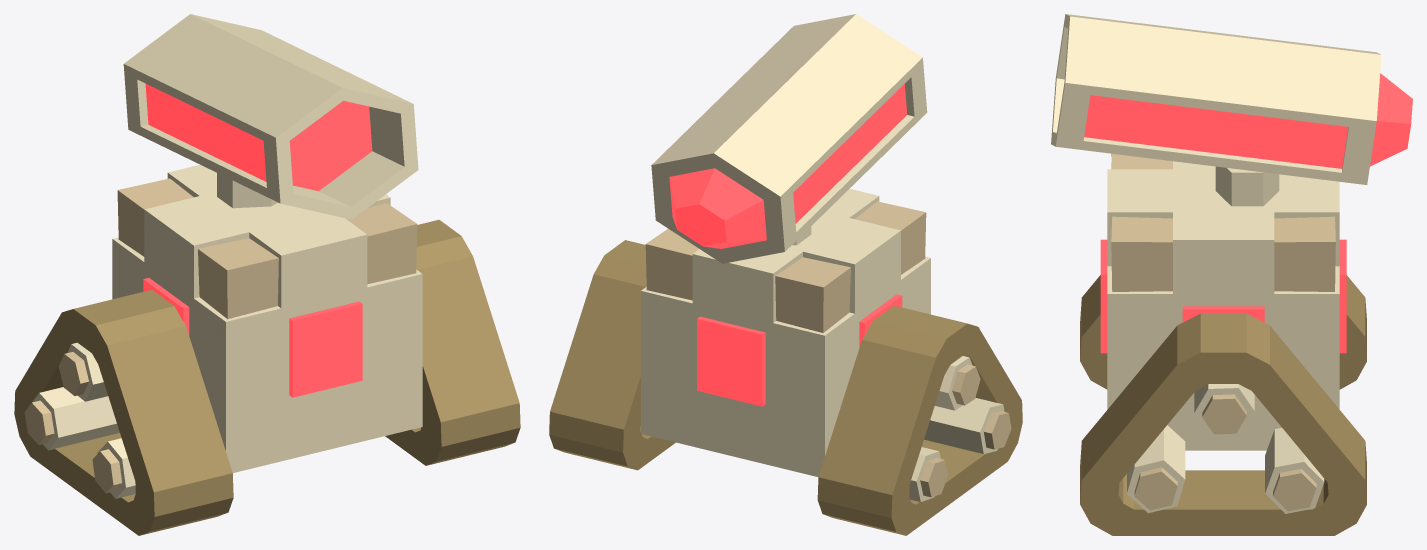
Rendered from Kill-E.fbx.
The picture shows the model from 3 angles, left to right: view 1: azimuth 30°, elevation 25°; view 2: azimuth 150°, elevation 25°; view 3: azimuth 270°, elevation 25°; orthographic projection. The views are drawn at different scales.
Parts seen in each view (by area): view 1: Body, Head, LeftLeg, RightLeg, Cylinder.004, Cylinder.003, Cylinder.002, Neck; view 2: Body, Head, LeftLeg, RightLeg, Cylinder.002, Cylinder.003, Cylinder.004; view 3: Head, Body, RightLeg, LeftLeg, Cylinder.006, Cylinder.007, Cylinder.005, Neck.
Boxes of the visible parts, <box> form: Body: <box>112,164,422,472</box>; Head: <box>123,14,418,219</box>; LeftLeg: <box>14,290,233,535</box>; RightLeg: <box>385,220,520,465</box>; Cylinder.004: <box>24,387,119,450</box>; Cylinder.003: <box>58,342,107,401</box>; Cylinder.002: <box>92,438,135,498</box>; Neck: <box>217,173,277,208</box>; Body: <box>641,188,930,476</box>; Head: <box>651,14,927,263</box>; LeftLeg: <box>817,305,1022,535</box>; RightLeg: <box>549,240,675,470</box>; Cylinder.002: <box>924,397,1011,453</box>; Cylinder.003: <box>935,356,980,410</box>; Cylinder.004: <box>909,447,947,501</box>; Head: <box>1051,14,1412,184</box>; Body: <box>1100,153,1346,450</box>; RightLeg: <box>1080,313,1366,535</box>; LeftLeg: <box>1080,275,1366,389</box>; Cylinder.006: <box>1127,425,1185,513</box>; Cylinder.007: <box>1265,428,1324,513</box>; Cylinder.005: <box>1194,384,1254,436</box>; Neck: <box>1215,166,1279,206</box>.
Size of the model in its own units: 127 by 128 by 98.19.
